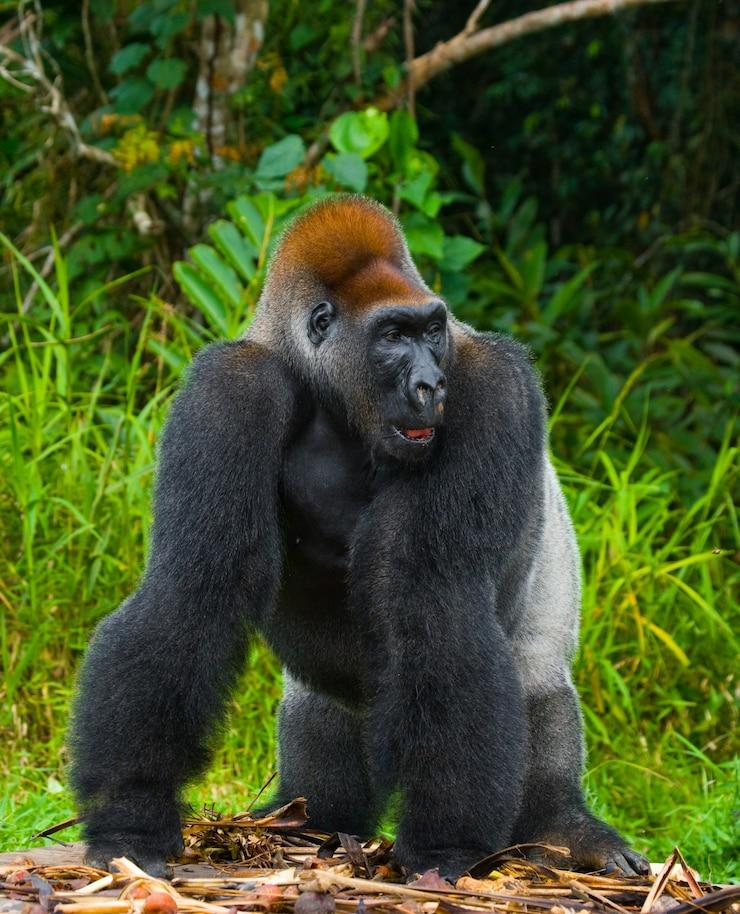gorille_Autres: (17, 80, 740, 913)
